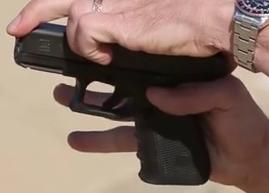gun: (1, 1, 269, 193)
